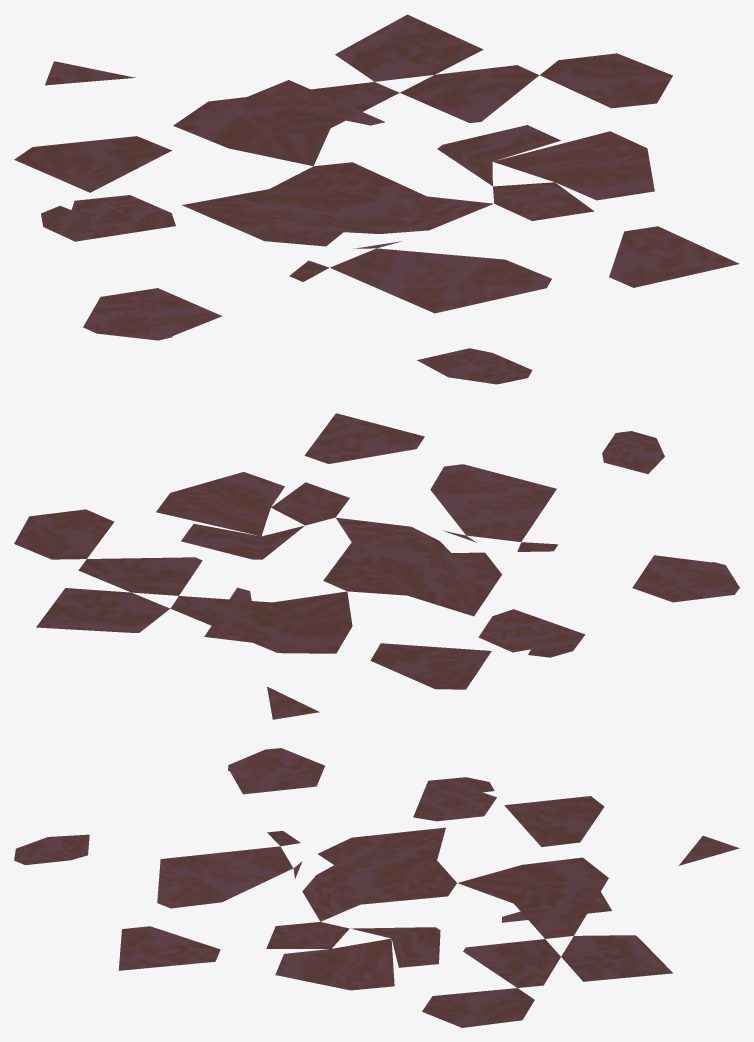
Rendered from PAST_WallFragments.fbx.
3 renders of one model, top to bottom at view 1: azimuth 30°, elevation 25°; view 2: azimuth 150°, elevation 25°; view 3: azimuth 270°, elevation 25°, orthographic. The views are drawn at different scales.
Parts seen in each view (by area): view 1: polySurface394; view 2: polySurface394; view 3: polySurface394.
Boxes of the visible parts, <box> form: polySurface394: <box>14,14,739,384</box>; polySurface394: <box>14,413,739,719</box>; polySurface394: <box>14,748,739,1027</box>.
Size of the model in its own units: 234 by 0.000244 by 257.
Materials: 1 (1 with a texture image).
